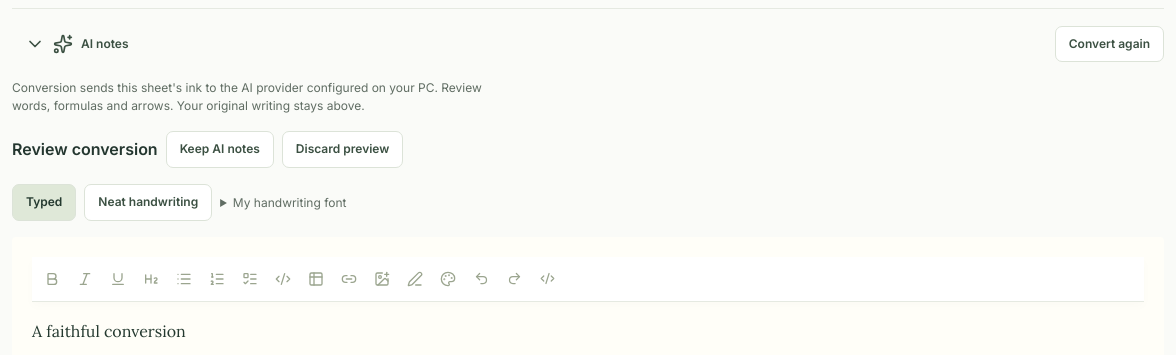
it: honors collapse during draft and keeps disclosure state accurate
Click the button "AI notes" at [77, 44], box left=12, top=25, right=142, bottom=63
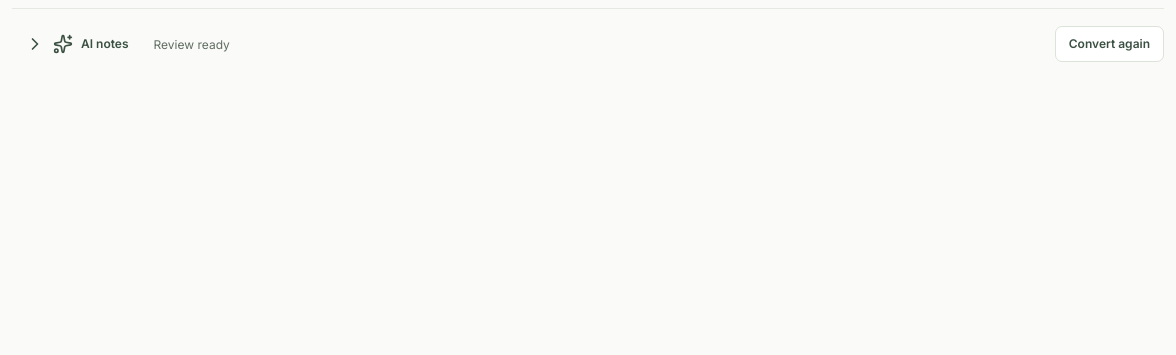
Now the button "AI notes" is collapsed, box left=12, top=25, right=142, bottom=63
Now the text "Conversion sends this sheet" is gone
